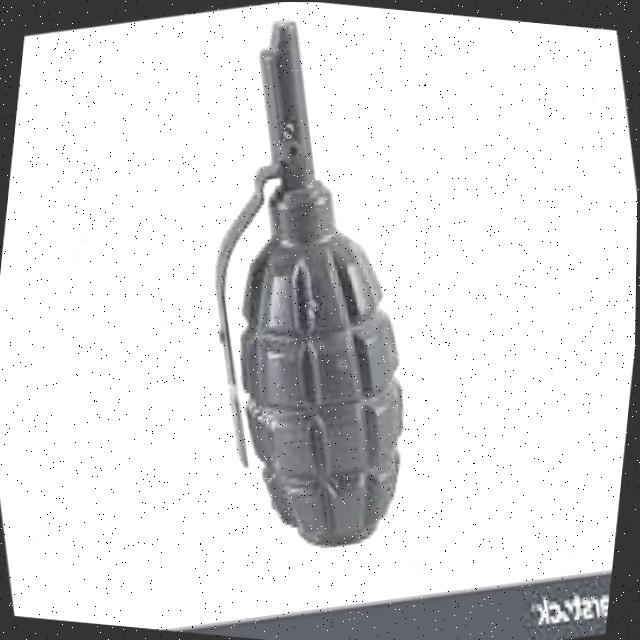grenade: (127, 1, 484, 582)
